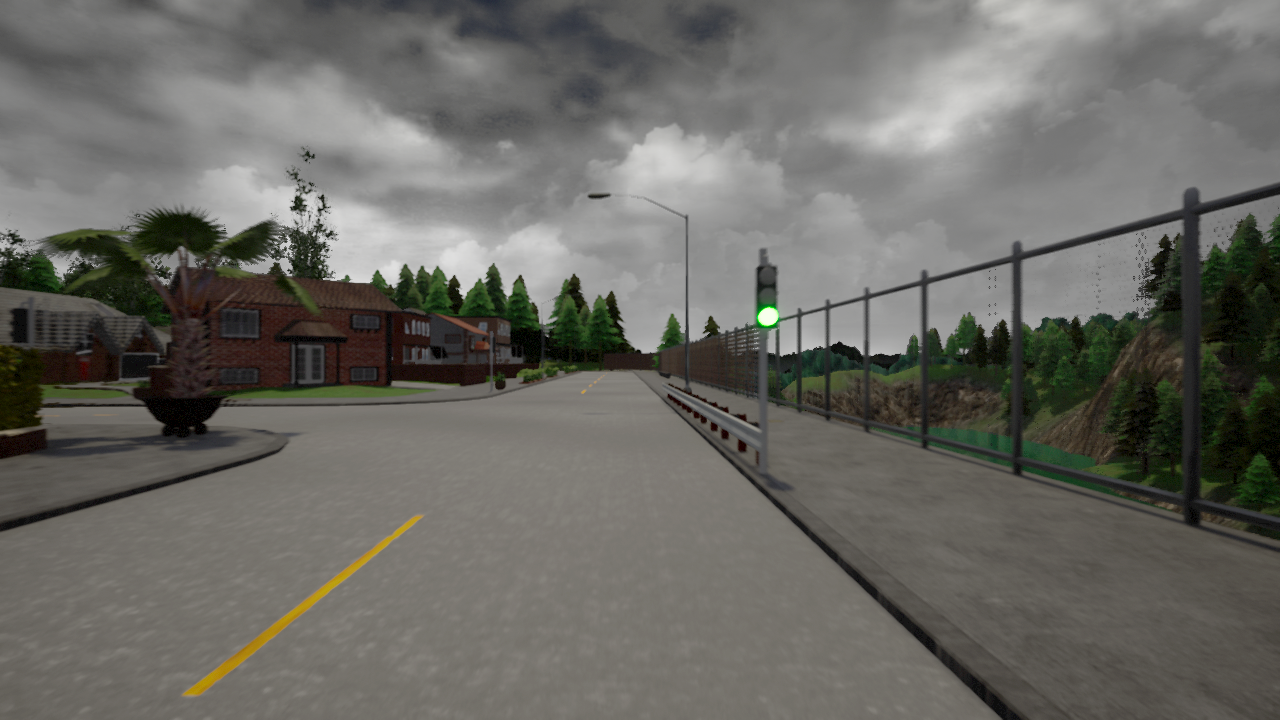green: (754, 261, 781, 329)
